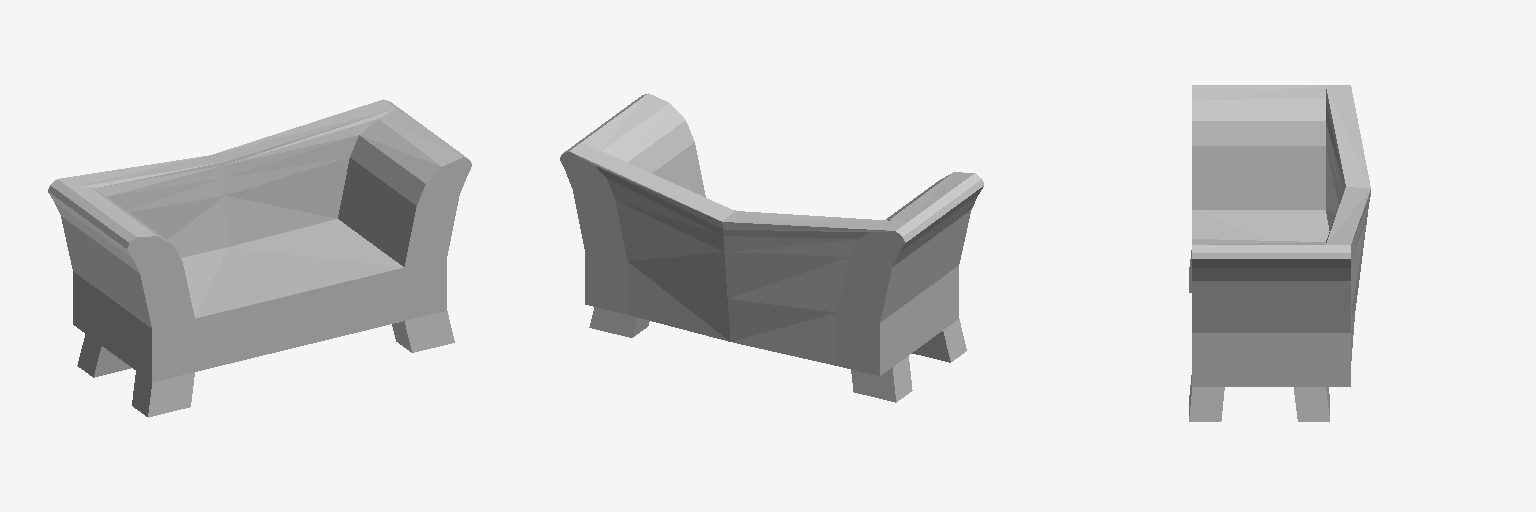
The model's file is Couch.obj.
The picture shows the model from 3 angles: view 1: azimuth 30°, elevation 25°; view 2: azimuth 150°, elevation 25°; view 3: azimuth 270°, elevation 25°; orthographic projection.
Parts seen in each view (by area): view 1: pCube1; view 2: pCube1; view 3: pCube1.
Part boxes in pixels (x1,y1,x2,y2): pCube1: (48,99,471,417); pCube1: (560,93,983,402); pCube1: (1189,85,1370,421).
Size of the model in its own units: 6.76 by 3.4 by 3.09.